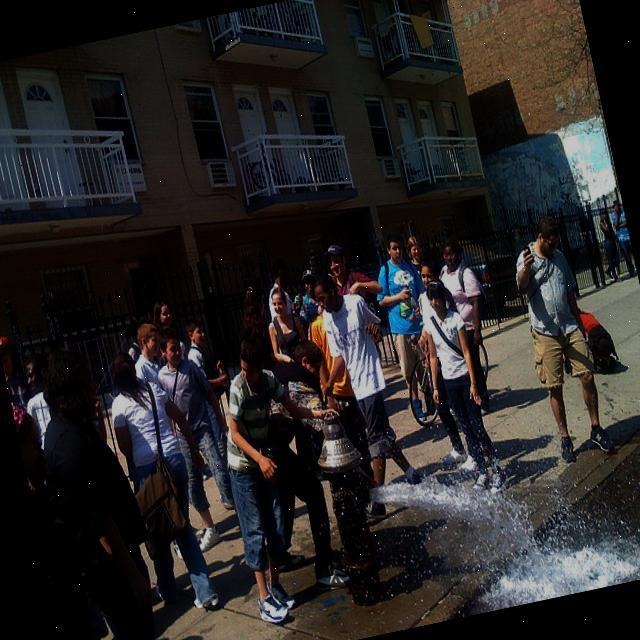fire_hydrant: (306, 406, 392, 610)
